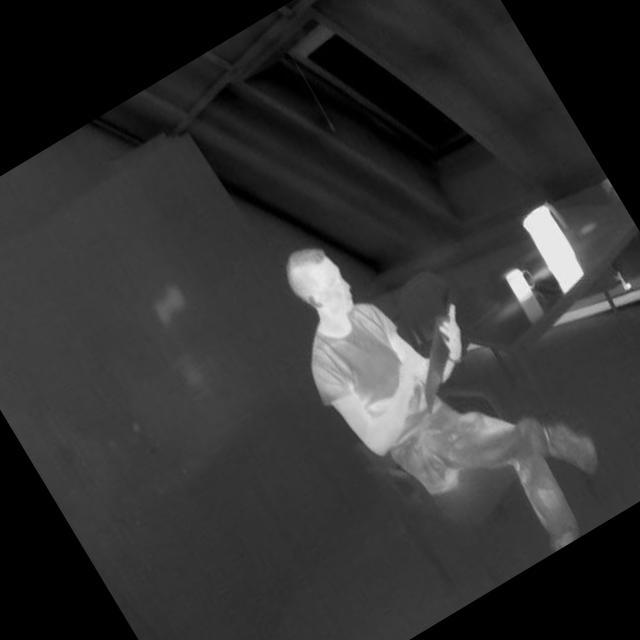person: (248, 168, 636, 615)
